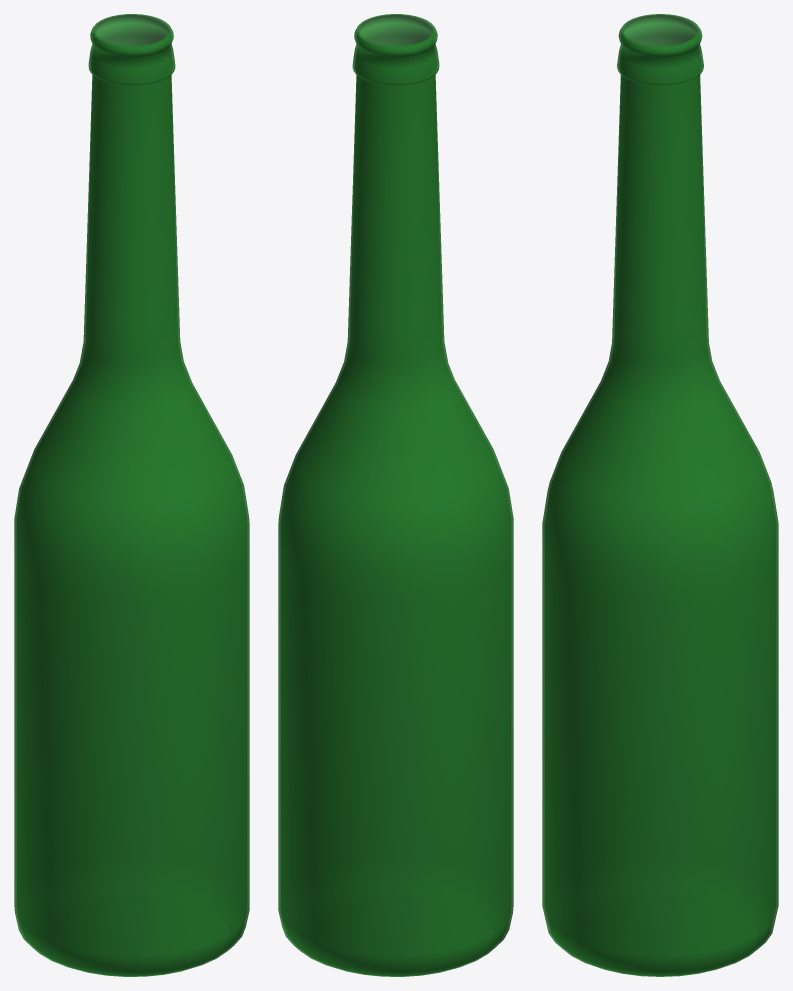
Rendered from uploads_files_5231271_GlassBottle.fbx.
3 views of the same model, side by side, from view 1: azimuth 30°, elevation 25°; view 2: azimuth 150°, elevation 25°; view 3: azimuth 270°, elevation 25° (orthographic).
Visible parts, largest first — view 1: GlassBottle; view 2: GlassBottle; view 3: GlassBottle.
Boxes of the visible parts, x1=… form: GlassBottle: x1=14, y1=14, x2=249, y2=976; GlassBottle: x1=278, y1=14, x2=513, y2=976; GlassBottle: x1=542, y1=14, x2=778, y2=976.
Size of the model in its own units: 202 by 854 by 202.
